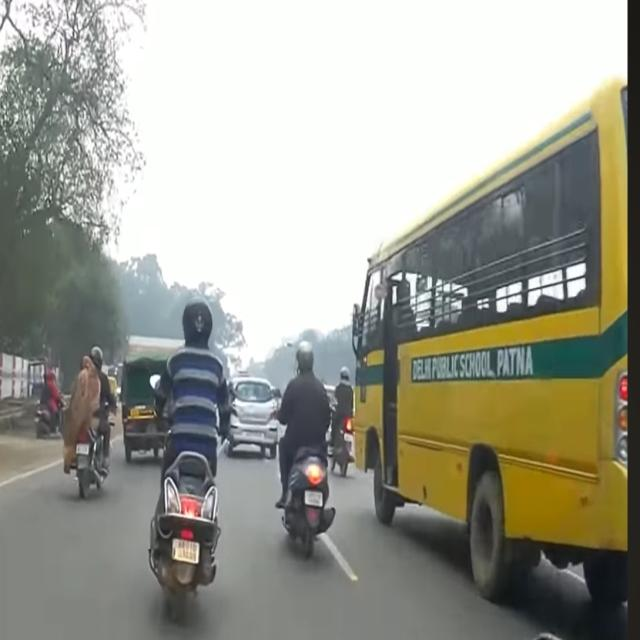Numberplate: (174, 538, 200, 568), (306, 492, 325, 511)
bike: (134, 363, 249, 609), (256, 424, 361, 566), (54, 401, 116, 513)
helmet: (176, 294, 217, 344), (293, 336, 321, 374)
no_helmet: (78, 353, 94, 367)
